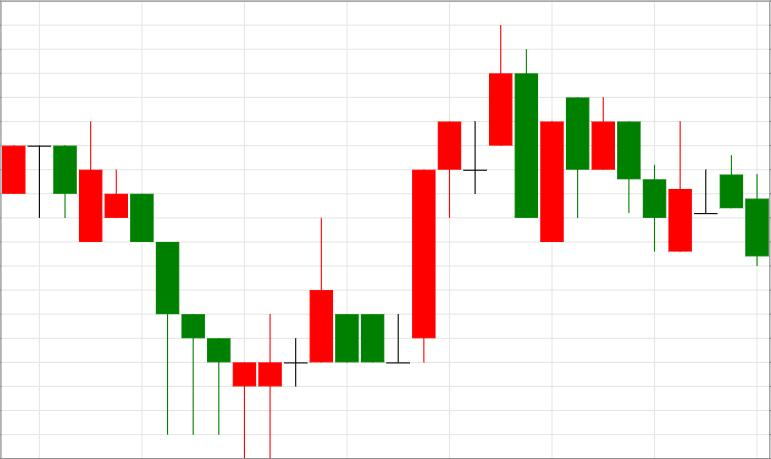hammer_rise: (79, 121, 256, 458), (80, 121, 230, 436), (80, 121, 205, 436)
